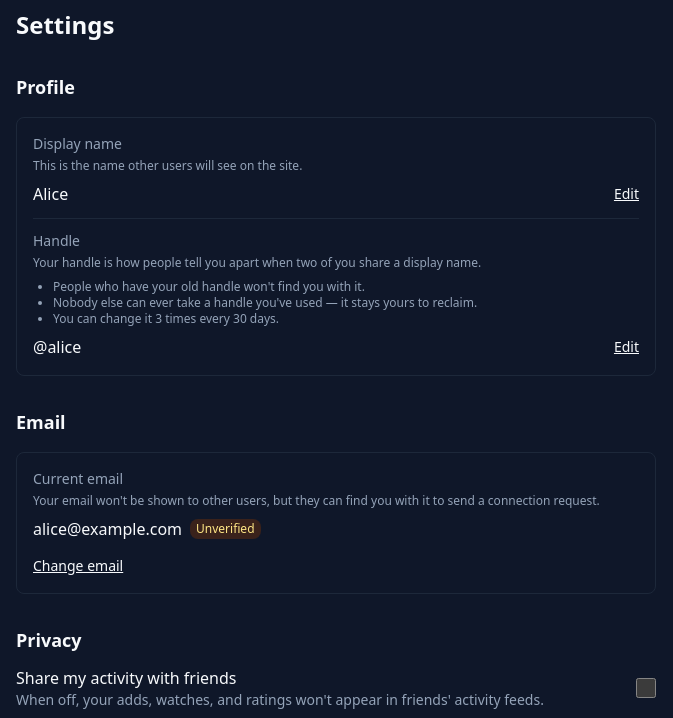
Test: SettingsPage › saves a new display name and reflects it in /me
Check: the text "Alice" is shown, box [33, 182, 68, 206]
Click the button with aria-label "edit display name": x=626, y=194 [614, 184, 639, 204]
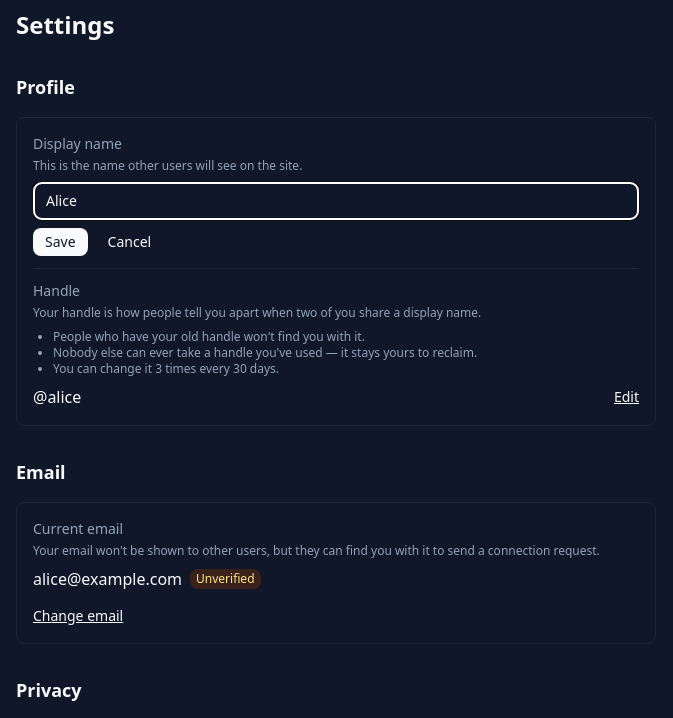
Replace the text in the field named "display name" with "Allison": x=336, y=201 [33, 182, 639, 220]
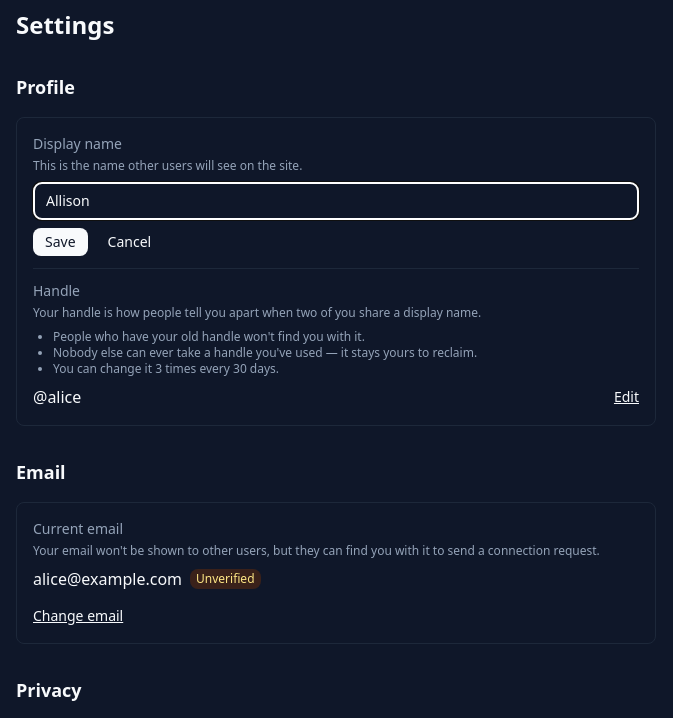
Click the button "Save": x=60, y=242 [33, 228, 88, 256]
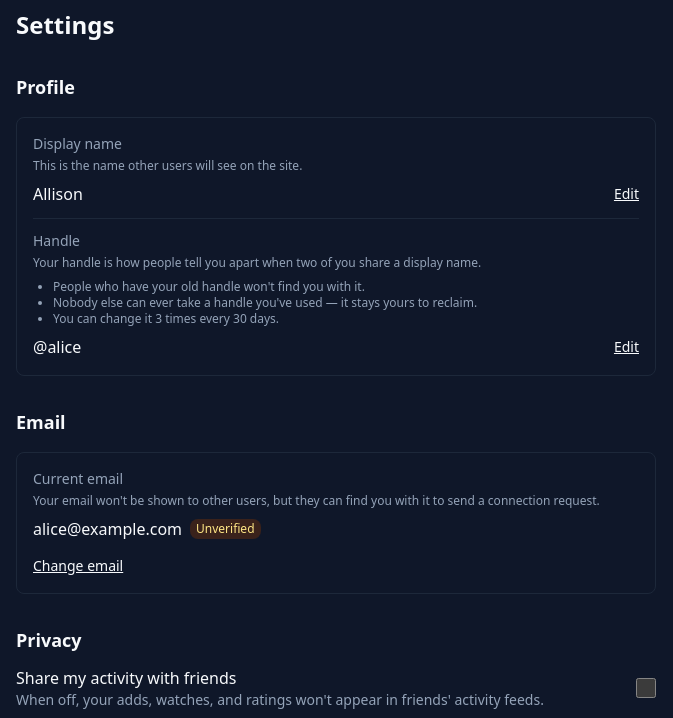
Check: the button "Save" is gone
Check: the text "Allison" is shown, box [33, 182, 83, 206]
